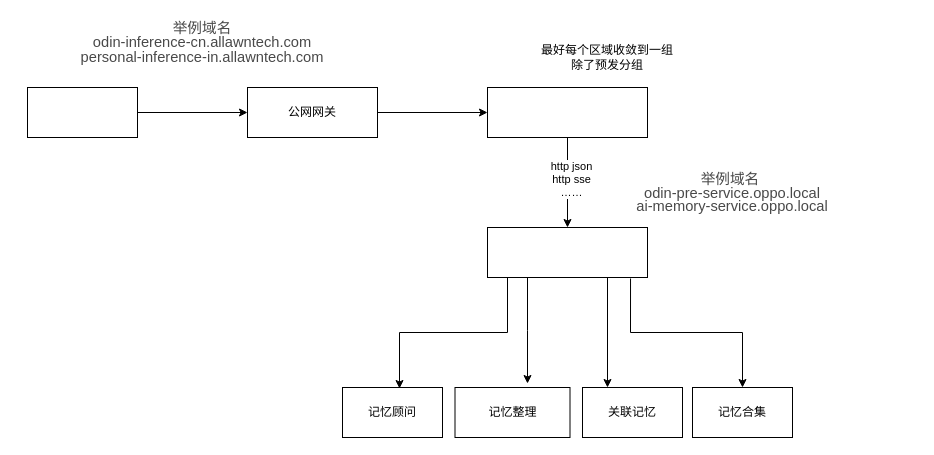
Some shapes in this 934 by 455 pixel diagram are drawn without their labels. Here are the shapes that lost their labels. From the top down, the centre of each, then its label:
At (82,112): "客户端".
At (567,112): "odin网关 personal-ai-deployment".
At (567,252): "内网网关".
